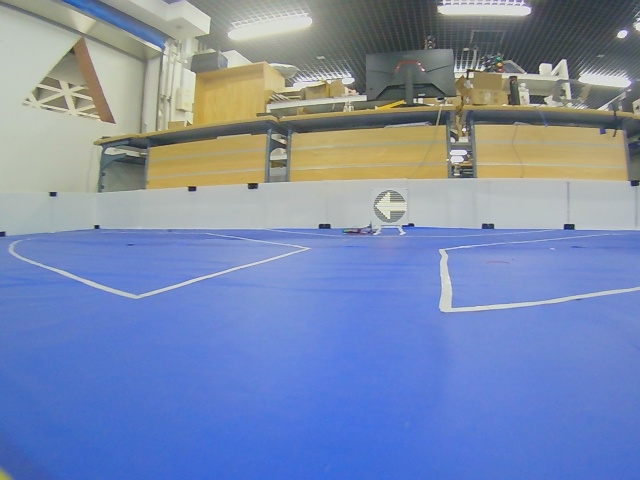left_yellow: (374, 190, 408, 224)
